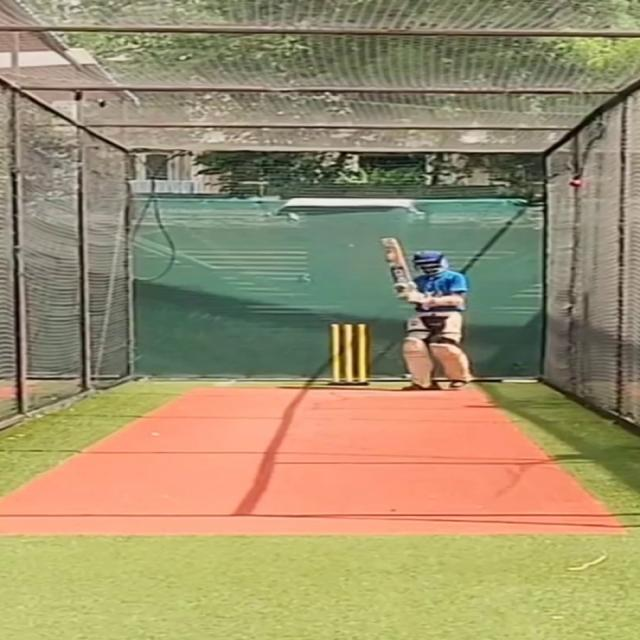stump: (324, 323, 372, 386)
